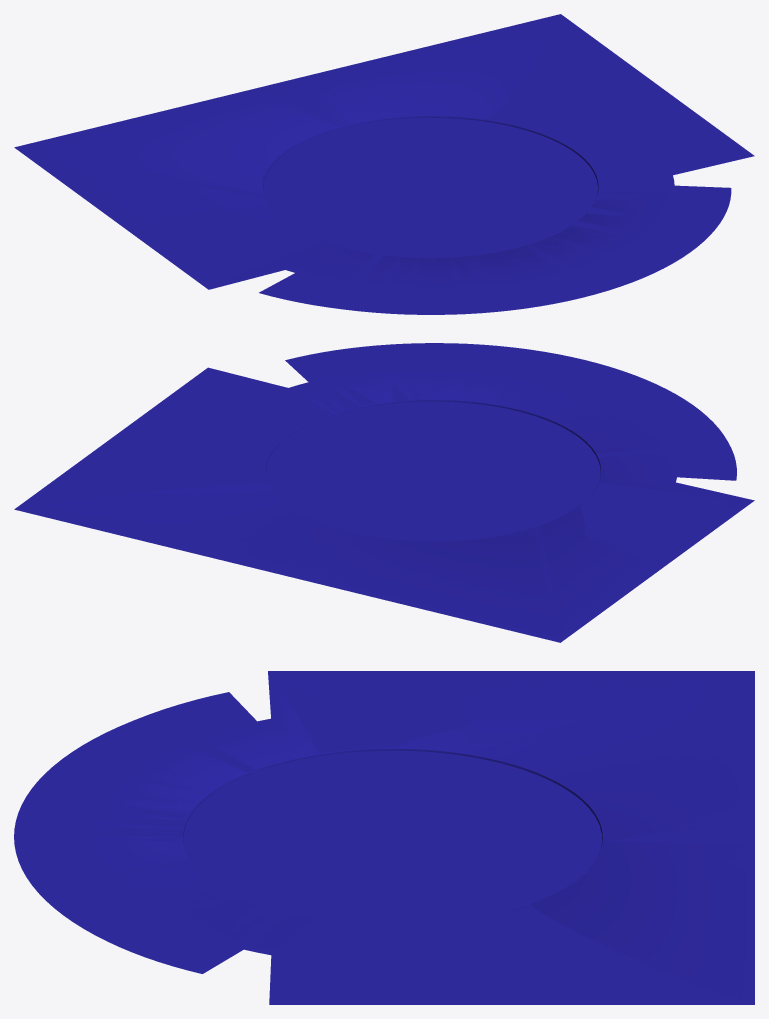
The model's file is StudioLuxuryFloor_02_Mesh.fbx.
The picture shows the model from 3 angles, top to bottom: view 1: azimuth 30°, elevation 25°; view 2: azimuth 150°, elevation 25°; view 3: azimuth 270°, elevation 25°; orthographic projection. The views are drawn at different scales.
Visible parts, largest first — view 1: StudioLuxuryFloor_02_Mesh, StudioLuxuryFloor_02_COL; view 2: StudioLuxuryFloor_02_Mesh, StudioLuxuryFloor_02_COL; view 3: StudioLuxuryFloor_02_Mesh, StudioLuxuryFloor_02_COL.
Boxes of the visible parts, left/top/right/bottom form: StudioLuxuryFloor_02_Mesh: left=15, top=14, right=749, bottom=314; StudioLuxuryFloor_02_COL: left=14, top=14, right=754, bottom=314; StudioLuxuryFloor_02_Mesh: left=14, top=343, right=754, bottom=642; StudioLuxuryFloor_02_COL: left=15, top=343, right=746, bottom=642; StudioLuxuryFloor_02_Mesh: left=14, top=671, right=754, bottom=1004; StudioLuxuryFloor_02_COL: left=14, top=671, right=754, bottom=1004.
Bounding box in the file's own units: 1543 × 4.18 × 1448.
